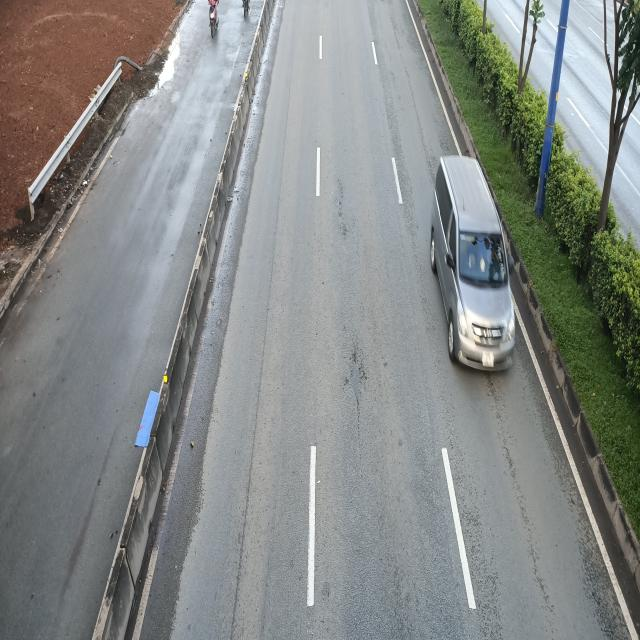car: (428, 156, 516, 375)
